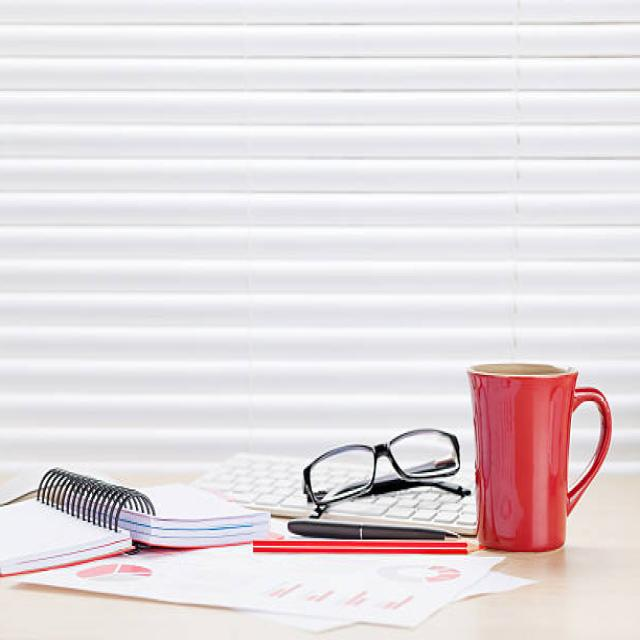Red_cup: (468, 364, 610, 552)
